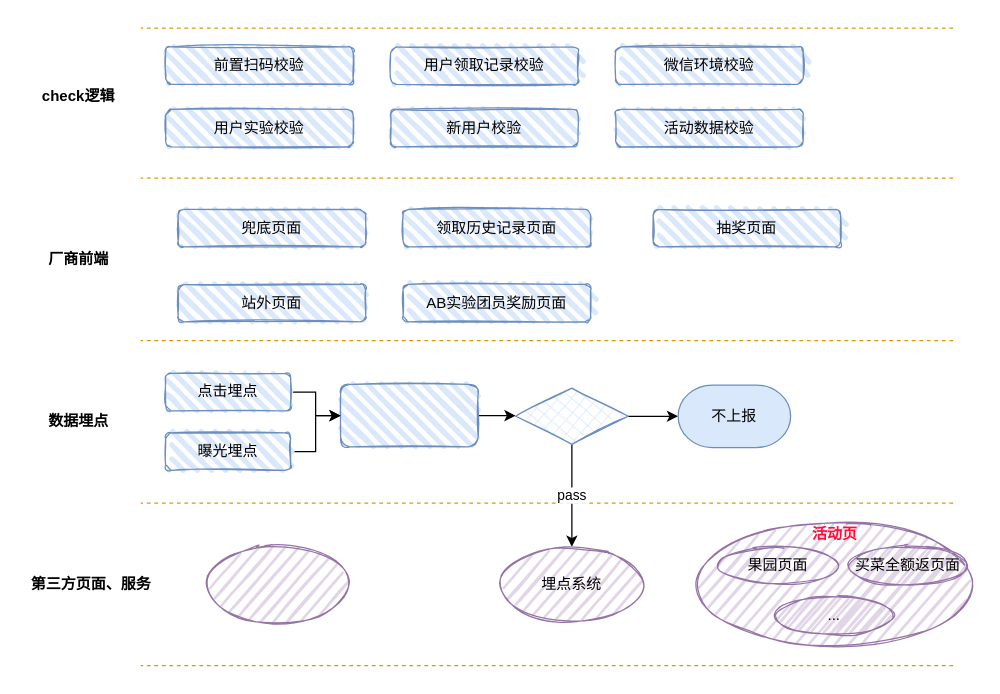
Image size: 1000x694. Some labels were removed from this diagram. The box of each missing label's shape, as (x1, y1, x2, y2) in pixels:
market utils: (202, 546, 353, 622)
时机校验: (514, 387, 628, 444)
页面page_sn、元素page_el_en: (339, 383, 478, 447)
